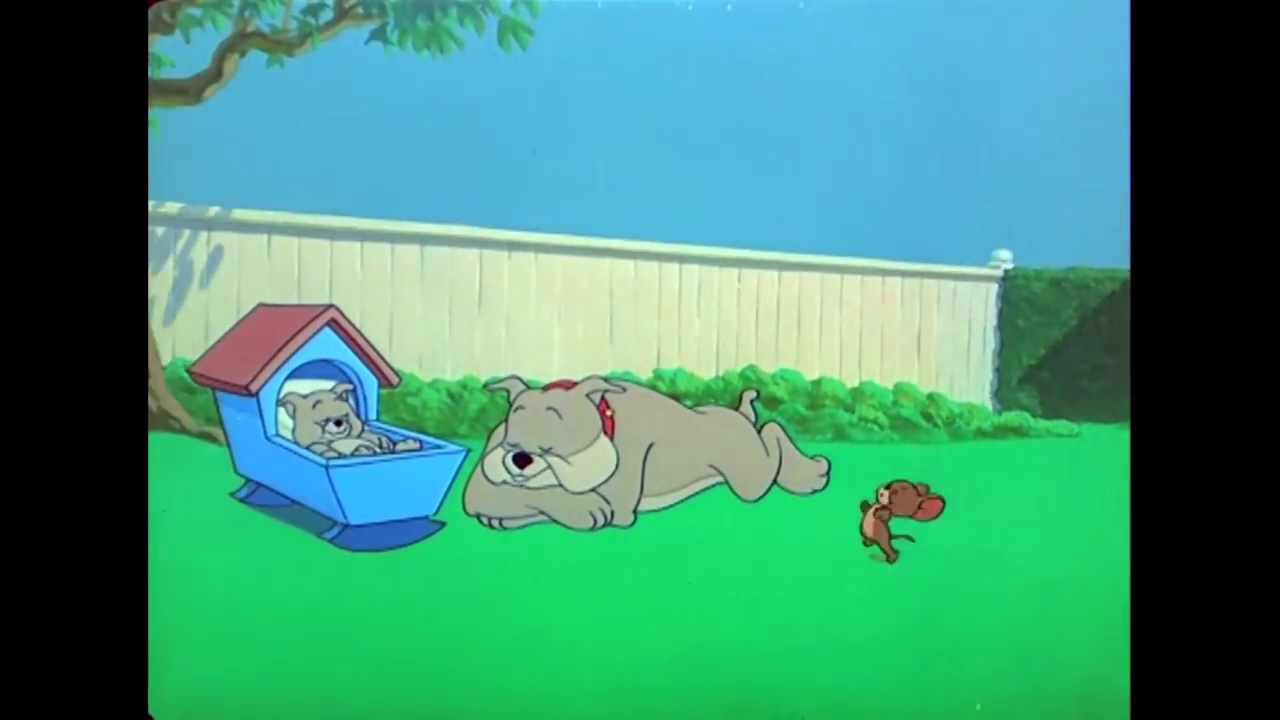spike: (478, 363, 632, 500)
